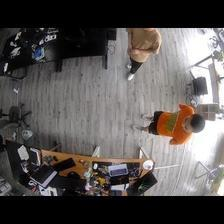normal: (133, 103, 205, 146), (124, 27, 164, 81)
